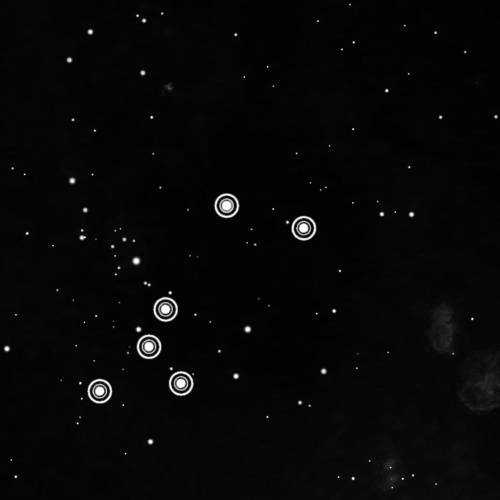canis_major: (82, 185, 325, 410)
